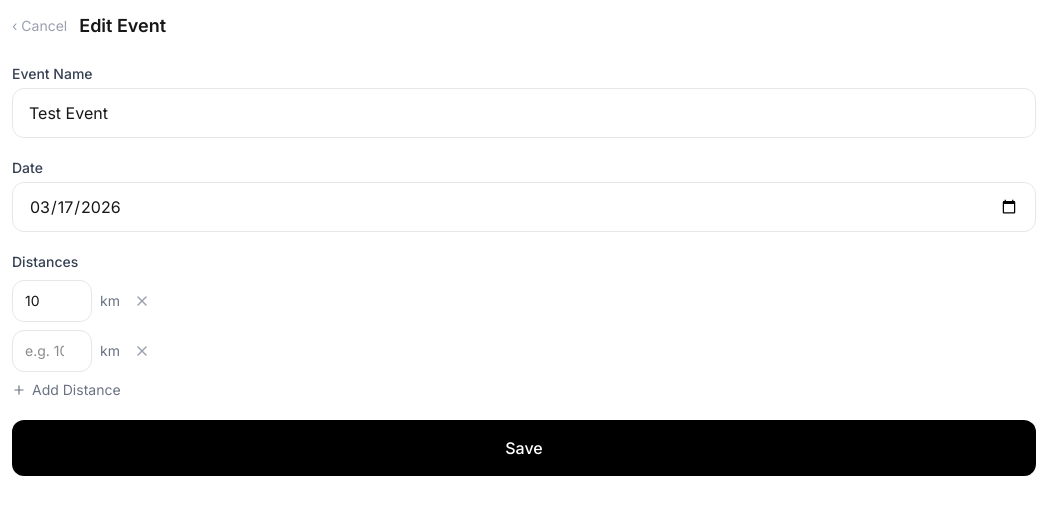
Test: EventEditForm › shows inline error when deleteDistance throws (RESTRICT)
Click the 2nd button named "remove distance" at (142,351), box [128,337,156,365]
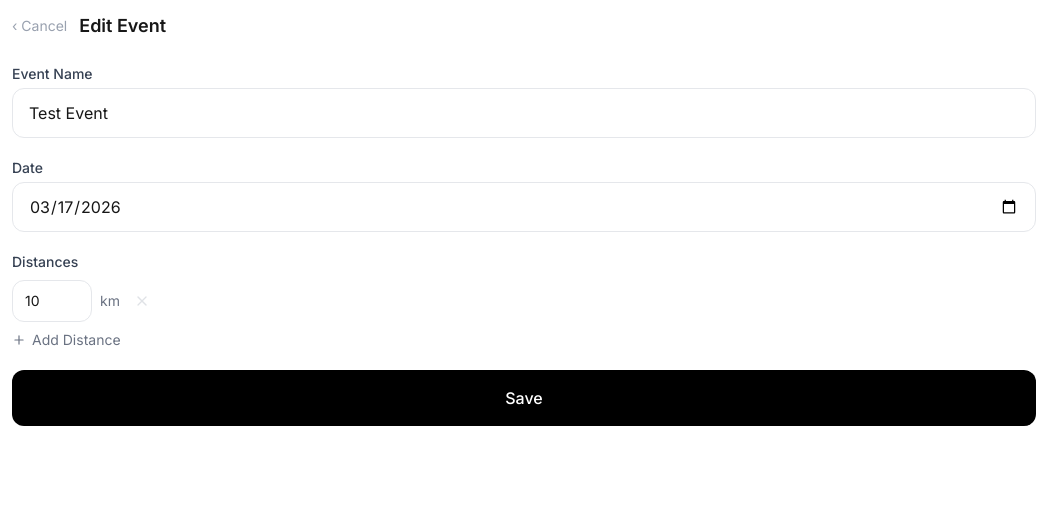
Click the button "Save" at (524,398), box [12,370,1036,426]
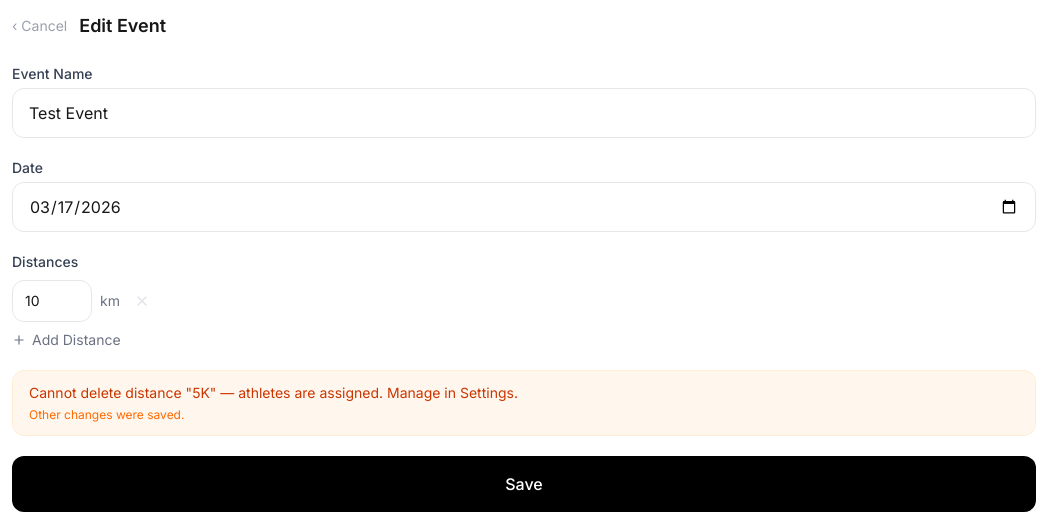
Now the text "Cannot delete distance" is shown, box [29,384,518,401]
